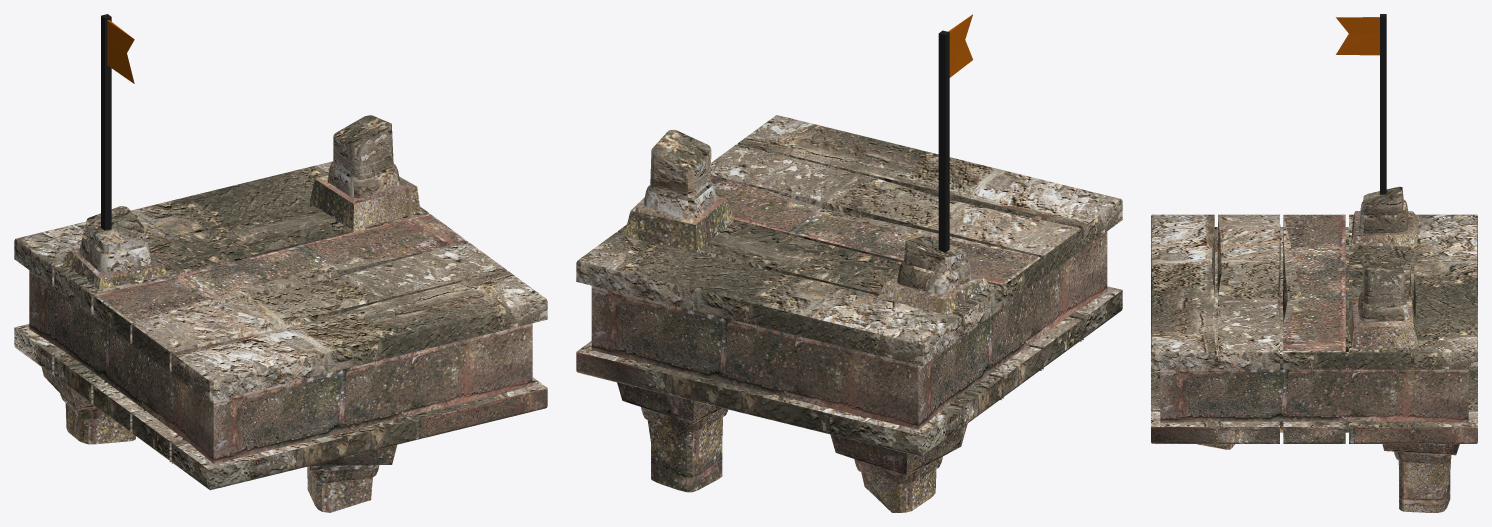
Rendered from winPlatform.fbx.
The picture shows the model from 3 angles, left to right: view 1: azimuth 30°, elevation 25°; view 2: azimuth 150°, elevation 25°; view 3: azimuth 270°, elevation 25°; orthographic projection. The views are drawn at different scales.
Parts seen in each view (by area): view 1: platform-stone; view 2: platform-stone; view 3: platform-stone.
Boxes of the visible parts, <box> form: platform-stone: <box>14,14,547,512</box>; platform-stone: <box>576,14,1122,512</box>; platform-stone: <box>1151,14,1477,512</box>.
Size of the model in its own units: 500 by 665 by 500.
